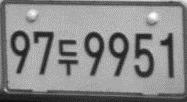1: (159, 32, 176, 79)
5: (133, 32, 155, 79)
7: (31, 30, 55, 75)
9: (83, 30, 105, 77), (108, 31, 129, 77), (9, 29, 30, 74)
두: (57, 37, 79, 76)
